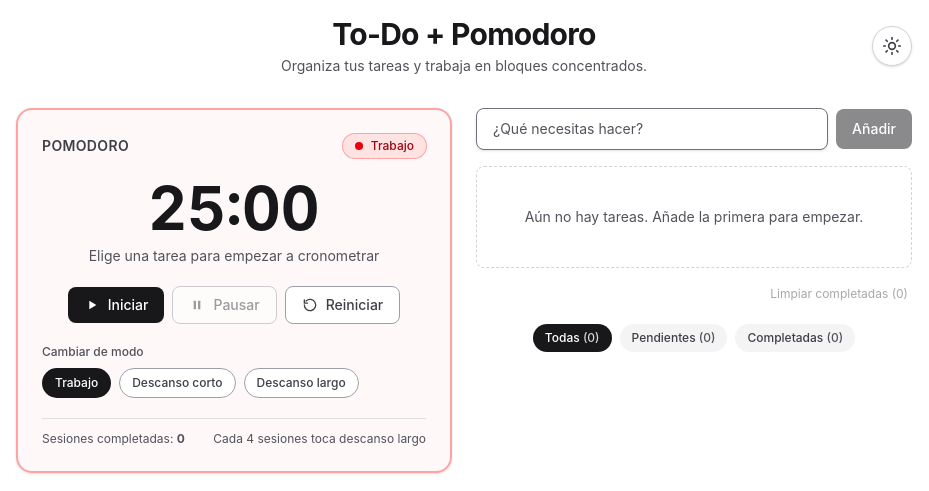
Test case: integración App: feedback en segundo plano › suena la campanilla exactamente al completarse el ciclo
Click the button with aria-label "Iniciar el temporizador" at (116, 305), box 68,287 -> 164,323
Wait 1500000 ms
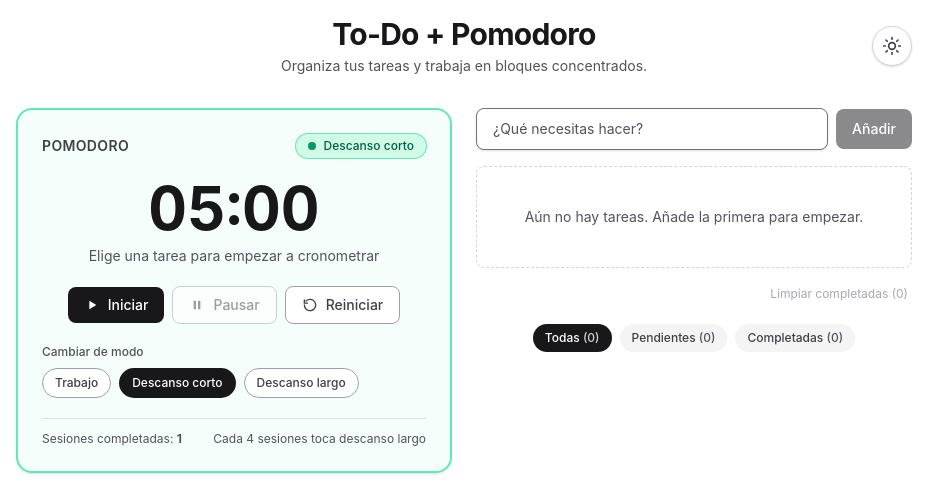
Expected: the heading "To-Do + Pomodoro" is shown, 332,16 -> 596,52
Expected: the text "05:00" is shown, 148,172 -> 320,244
